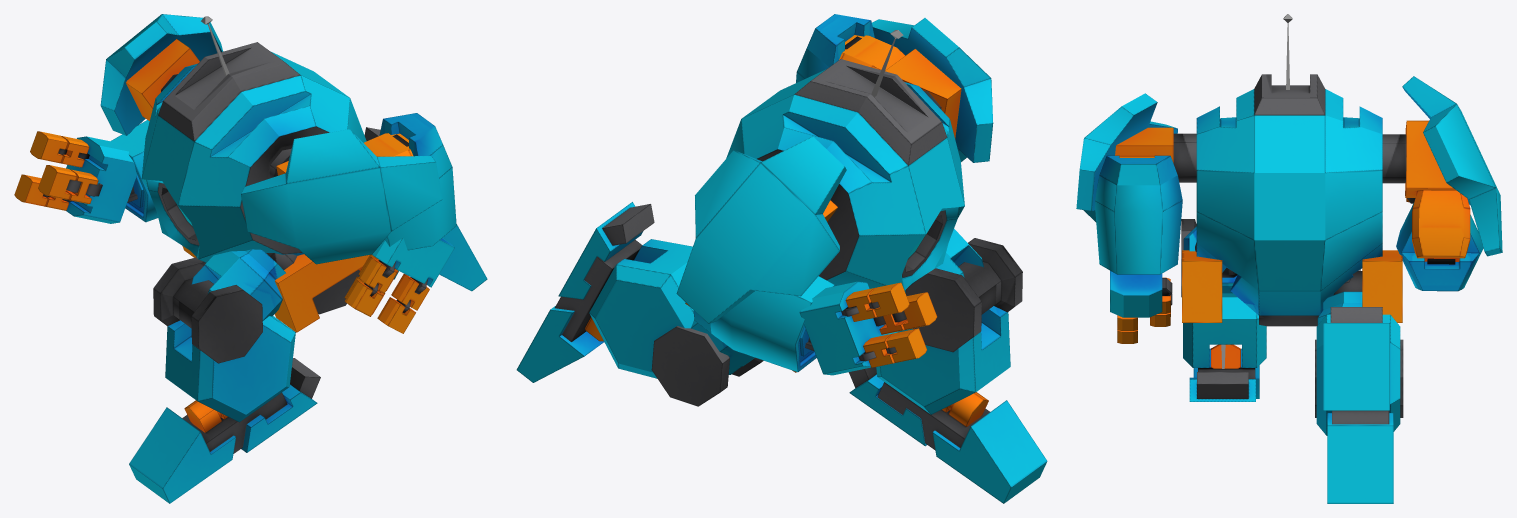
The model's file is Walk14.obj.
3 renders of one model, left to right at view 1: azimuth 30°, elevation 25°; view 2: azimuth 150°, elevation 25°; view 3: azimuth 270°, elevation 25°, orthographic. The views are drawn at different scales.
Visible parts, largest first — view 1: Plane001, Object006, Object013, Object014, Object004, Object002, Object008, Object007, Object012, Object011, Object003, Object010; view 2: Plane001, Object002, Object013, Object010, Object014, Object006, Object004, Object011, Object003, Object007, Object012, Object009; view 3: Plane001, Object011, Object002, Object007, Object006, Object013, Object008, Object014, Object003, Object010, Object001, Object005 (+2 smaller).
Boxes of the visible parts, x1,y1,x2,y2 form: Plane001: (141, 42, 369, 332); Object006: (241, 129, 442, 264); Object013: (153, 257, 295, 422); Object014: (129, 358, 320, 503); Object004: (14, 131, 137, 223); Object002: (100, 14, 223, 135); Object008: (344, 238, 454, 333); Object007: (379, 113, 456, 250); Object012: (191, 249, 297, 320); Object011: (364, 127, 487, 291); Object003: (111, 120, 158, 222); Object010: (312, 270, 398, 314); Plane001: (685, 59, 964, 372); Object002: (676, 136, 846, 323); Object013: (876, 238, 1022, 414); Object010: (589, 239, 763, 406); Object014: (849, 367, 1047, 503); Object006: (839, 18, 993, 162); Object004: (799, 281, 937, 375); Object011: (516, 202, 654, 382); Object003: (693, 276, 834, 372); Object007: (796, 14, 874, 82); Object012: (905, 229, 983, 292); Object009: (691, 320, 754, 374); Plane001: (1182, 74, 1402, 326); Object011: (1323, 307, 1393, 503); Object002: (1402, 76, 1502, 261); Object007: (1095, 155, 1182, 274); Object006: (1076, 93, 1177, 222); Object013: (1181, 219, 1266, 367); Object008: (1110, 270, 1172, 343); Object014: (1189, 344, 1259, 401); Object003: (1396, 202, 1483, 291); Object010: (1315, 314, 1403, 435); Object001: (1382, 134, 1406, 183); Object005: (1173, 133, 1196, 182).
Bounding box in the file's own units: 197 × 199 × 182.
